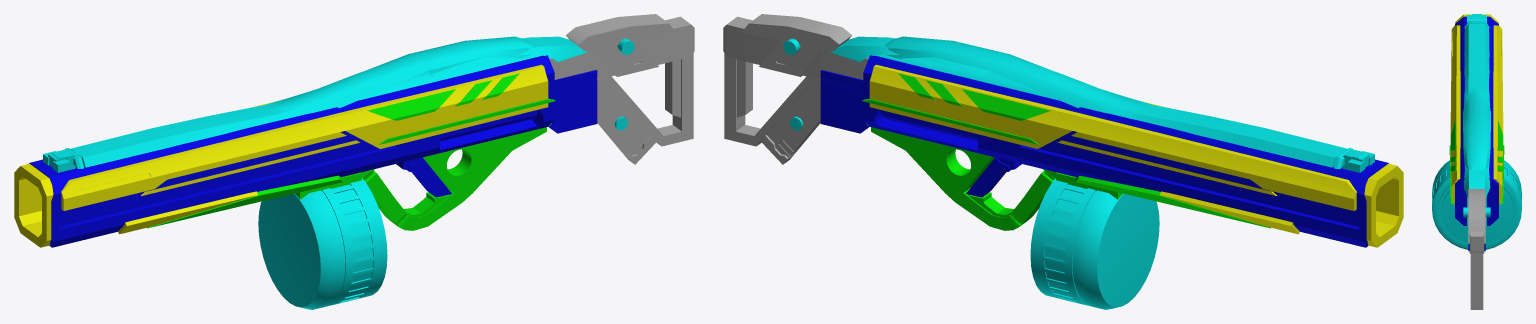
The model's file is model_gun_10.fbx.
3 renders of one model, left to right at view 1: azimuth 30°, elevation 25°; view 2: azimuth 150°, elevation 25°; view 3: azimuth 270°, elevation 25°, orthographic. The views are drawn at different scales.
Visible parts, largest first — view 1: gun_10; view 2: gun_10; view 3: gun_10.
Boxes of the visible parts, <box> form: gun_10: <box>14,14,694,309</box>; gun_10: <box>723,14,1403,309</box>; gun_10: <box>1432,14,1521,309</box>.
Size of the model in its own units: 414 by 132 by 73.41.
